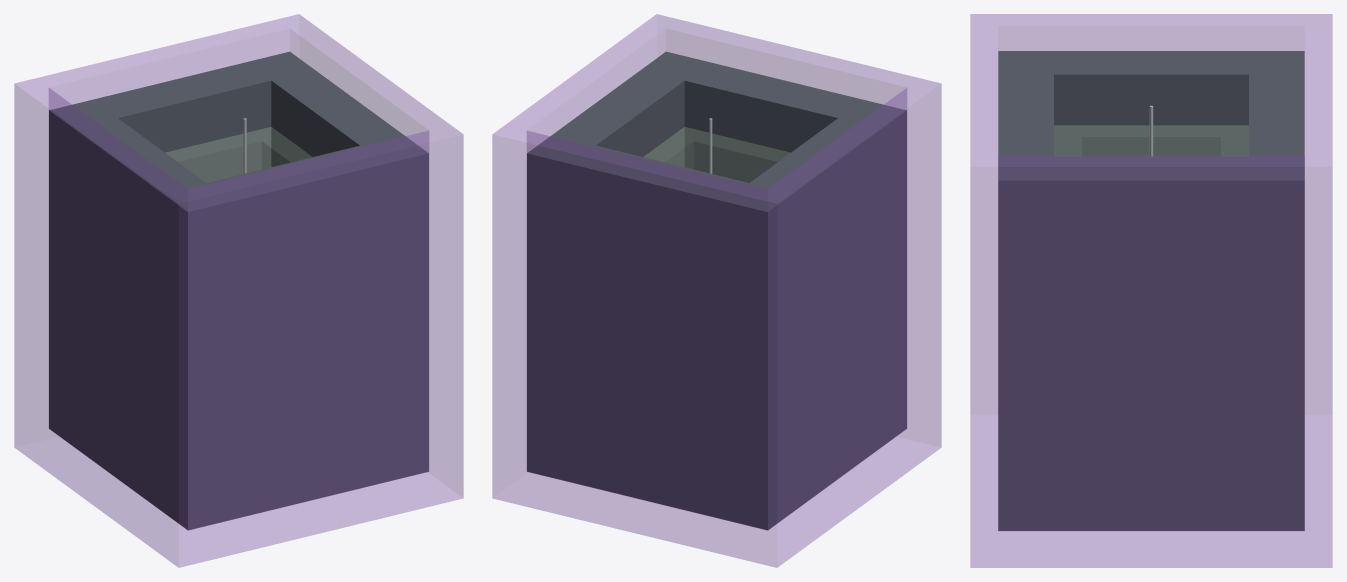
File: gamma_station.glb
The picture shows the model from 3 angles, left to right: view 1: azimuth 30°, elevation 25°; view 2: azimuth 150°, elevation 25°; view 3: azimuth 270°, elevation 25°; orthographic projection. The views are drawn at different scales.
Visible parts, largest first — view 1: veto_5cm_5faces, Pb_shield_10cm, borated_HDPE_5cm; view 2: veto_5cm_5faces, Pb_shield_10cm, borated_HDPE_5cm; view 3: veto_5cm_5faces, Pb_shield_10cm, borated_HDPE_5cm.
Boxes of the visible parts, <box> form: veto_5cm_5faces: <box>14,14,463,567</box>; Pb_shield_10cm: <box>49,51,428,530</box>; borated_HDPE_5cm: <box>166,127,311,182</box>; veto_5cm_5faces: <box>492,14,941,567</box>; Pb_shield_10cm: <box>527,51,906,530</box>; borated_HDPE_5cm: <box>644,127,789,182</box>; veto_5cm_5faces: <box>970,14,1332,567</box>; Pb_shield_10cm: <box>998,51,1304,530</box>; borated_HDPE_5cm: <box>1054,125,1248,156</box>.
Bounding box in the file's own units: 649 × 793 × 649.
